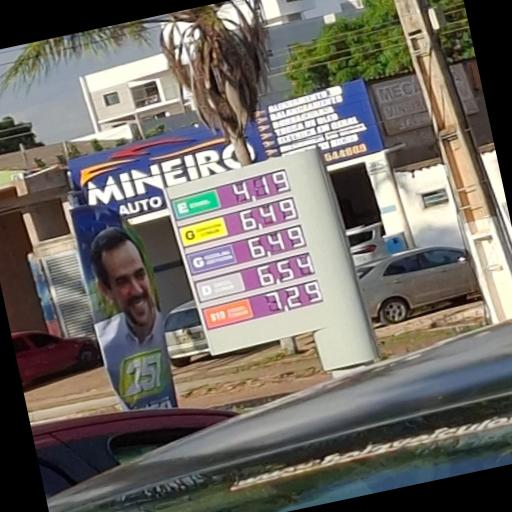ETANOL: (172, 188, 221, 218)
GASOLINA AD: (184, 242, 240, 274), (178, 216, 228, 245)
S10: (200, 298, 256, 328)
S500: (194, 272, 248, 300)
placa: (166, 164, 342, 337)
preco: (229, 169, 292, 205), (246, 224, 307, 261), (262, 278, 324, 314), (237, 197, 298, 233), (255, 252, 316, 286)
